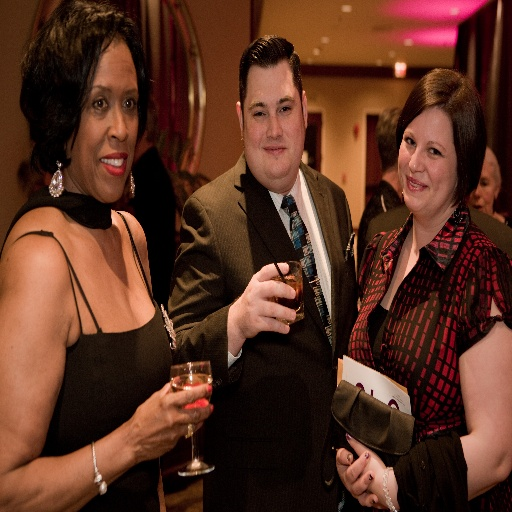hand: (128, 374, 213, 462), (233, 259, 298, 338), (344, 432, 390, 511), (334, 448, 380, 509)
